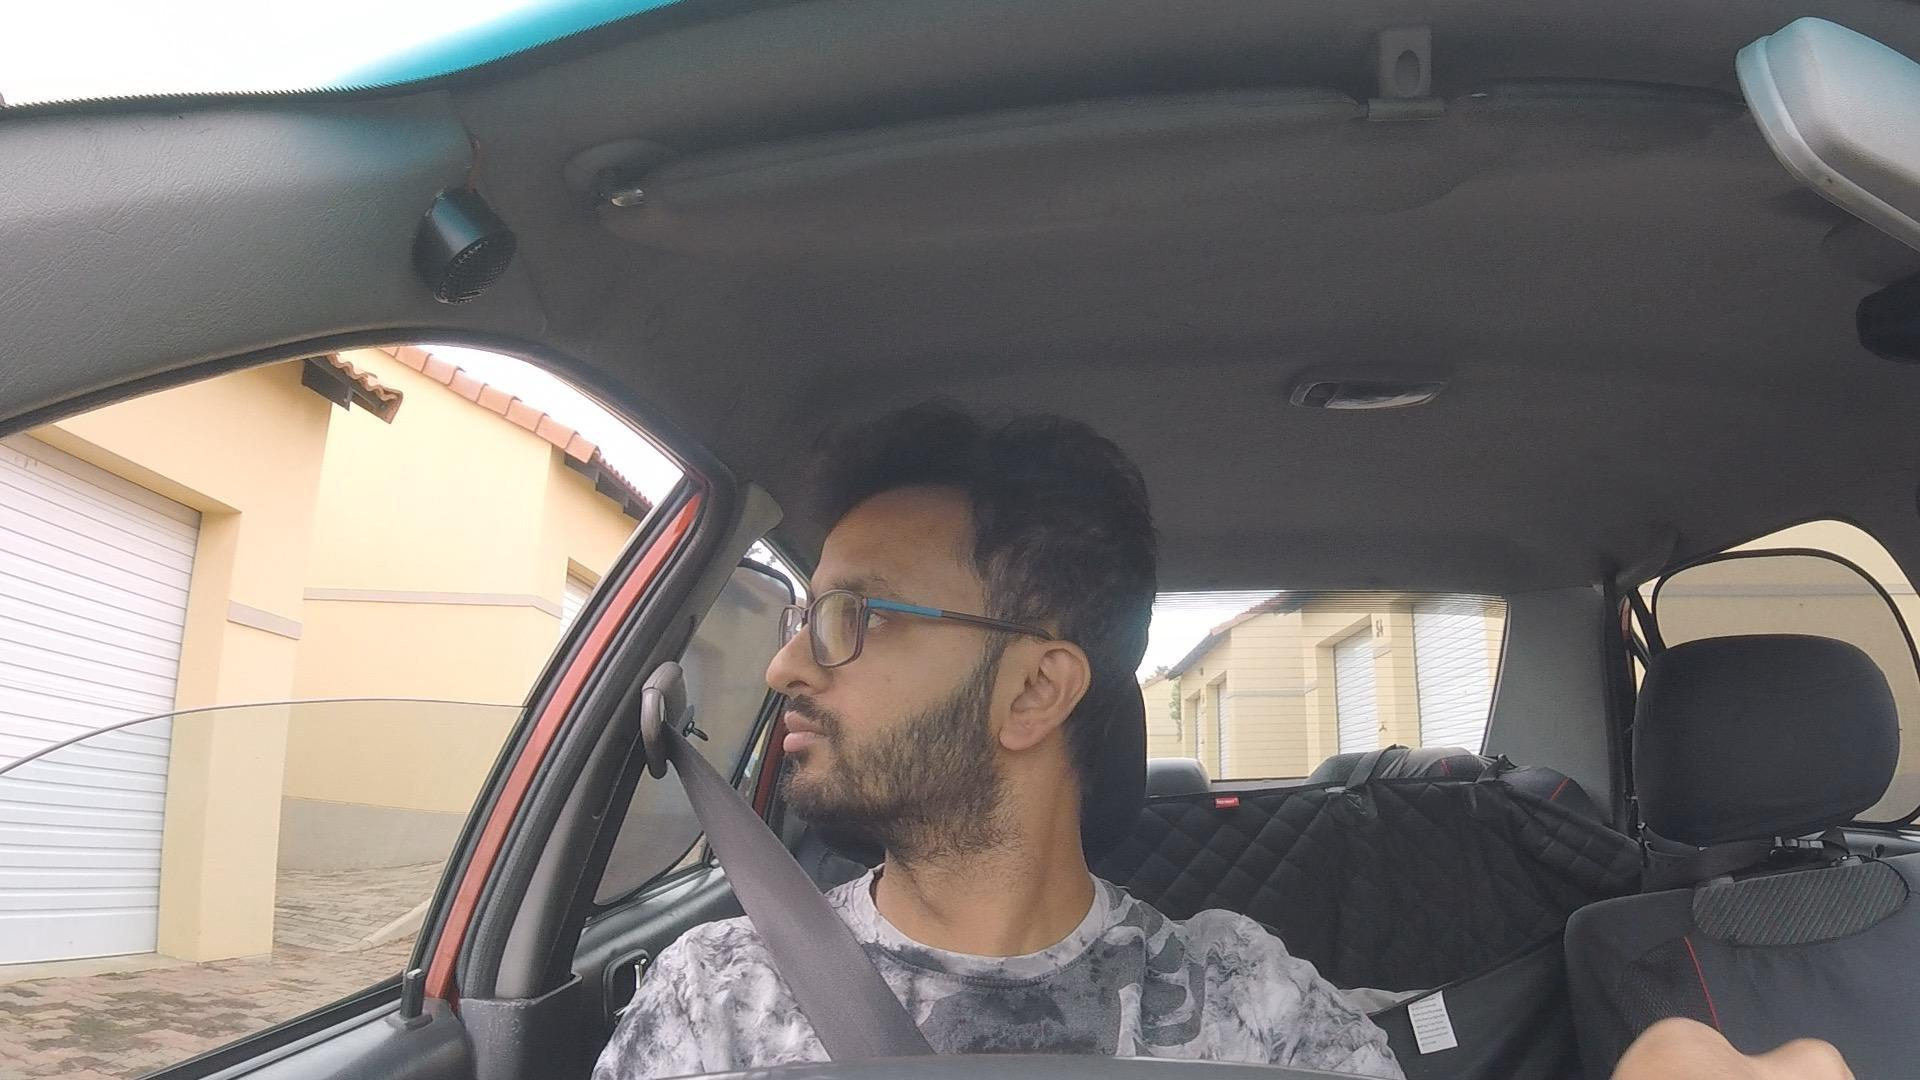SafeDriving: (764, 400, 1160, 824)
